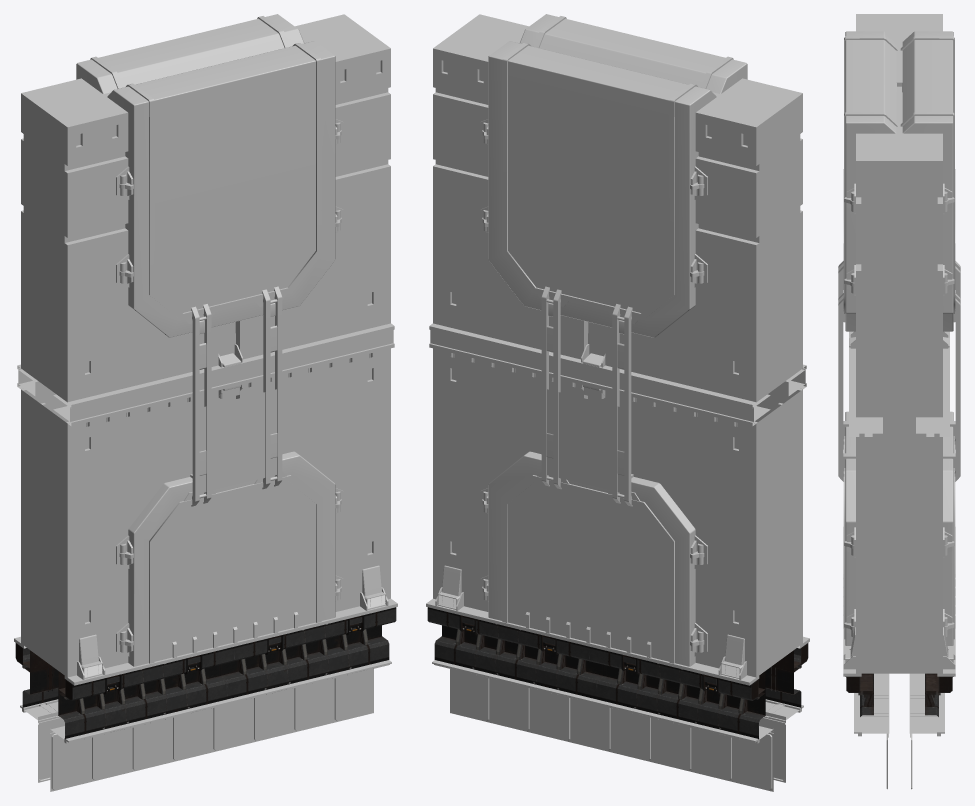
The model's file is Wall_Large_07.fbx.
The picture shows the model from 3 angles, left to right: view 1: azimuth 30°, elevation 25°; view 2: azimuth 150°, elevation 25°; view 3: azimuth 270°, elevation 25°; orthographic projection. The views are drawn at different scales.
Parts seen in each view (by area): view 1: Concrete_Blocks, Element1, Element4, Element6, Element7, Grid_Panel, Grid, Element2, Element5; view 2: Concrete_Blocks, Element1, Element4, Element6, Element7, Grid_Panel, Grid, Element2, Element5; view 3: Concrete_Blocks, Element6, Element1, Element7, Element2, Element4, Element5.
Part boxes in pixels (x1=…): Concrete_Blocks: x1=21, y1=14, x2=390, y2=677; Element1: x1=14, y1=565, x2=397, y2=791; Element4: x1=15, y1=607, x2=396, y2=739; Element6: x1=17, y1=16, x2=394, y2=663; Element7: x1=184, y1=286, x2=286, y2=506; Grid_Panel: x1=199, y1=389, x2=276, y2=493; Grid: x1=18, y1=330, x2=393, y2=421; Element2: x1=116, y1=119, x2=343, y2=656; Element5: x1=218, y1=322, x2=242, y2=403; Concrete_Blocks: x1=433, y1=14, x2=802, y2=677; Element1: x1=426, y1=565, x2=809, y2=791; Element4: x1=427, y1=607, x2=808, y2=739; Element6: x1=429, y1=16, x2=806, y2=663; Element7: x1=537, y1=286, x2=639, y2=506; Grid_Panel: x1=547, y1=389, x2=624, y2=493; Grid: x1=430, y1=330, x2=805, y2=421; Element2: x1=480, y1=119, x2=707, y2=656; Element5: x1=581, y1=322, x2=605, y2=403; Concrete_Blocks: x1=845, y1=14, x2=953, y2=673; Element6: x1=843, y1=36, x2=955, y2=639; Element1: x1=843, y1=527, x2=955, y2=789; Element7: x1=838, y1=261, x2=960, y2=481; Element2: x1=844, y1=183, x2=954, y2=636; Element4: x1=845, y1=673, x2=953, y2=716; Element5: x1=849, y1=86, x2=949, y2=348.
Bounding box in the file's own units: 1604 × 3262 × 562.
